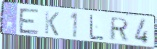1: (69, 12, 78, 40)
4: (133, 18, 150, 46)
E: (18, 7, 41, 37)
K: (43, 10, 60, 38)
L: (89, 13, 105, 41)
R: (108, 16, 131, 42)
